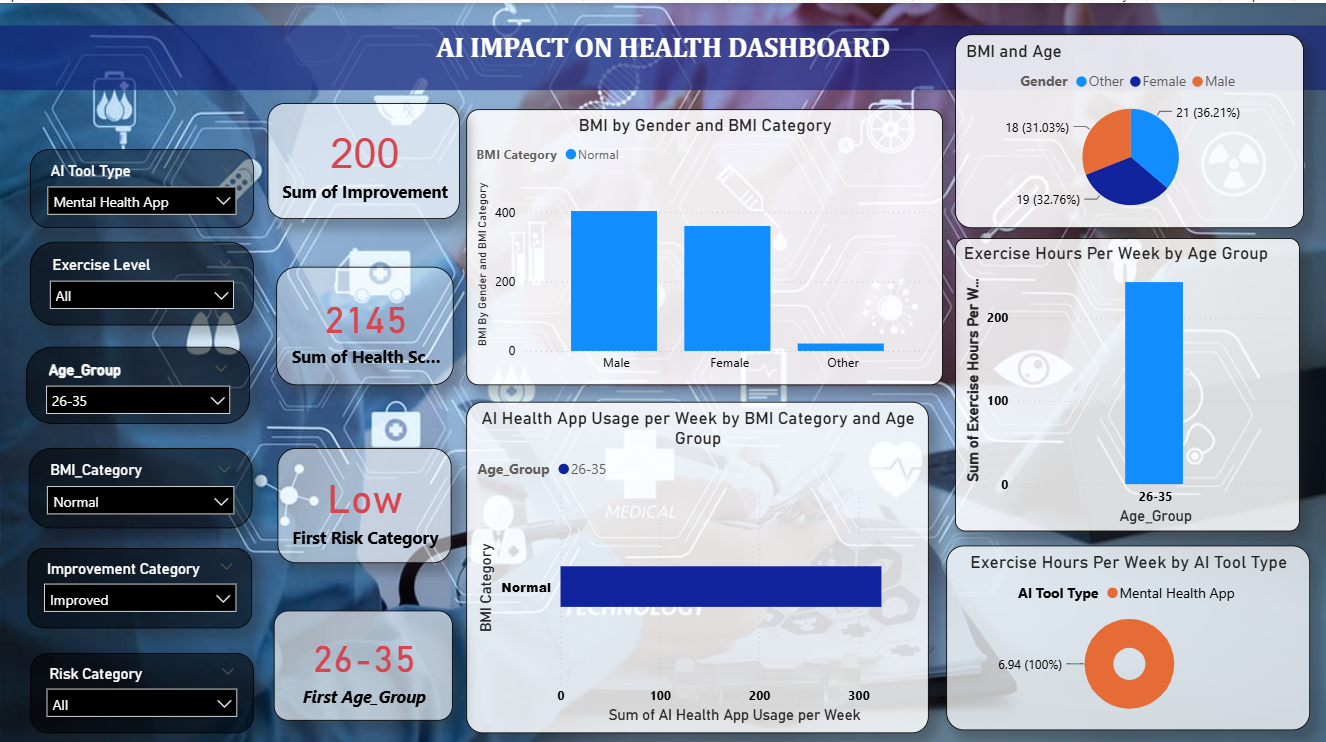

The page's visual inventory and layout, read from the dashboard file:
{"tool":"powerbi","page":{"name":"Page 1","canvas":[1280,720],"ordinal":0},"visuals":[{"type":"textbox","box":[0,21.7,1280,62.7],"z":0},{"type":"pieChart","title":"BMI and Age","fields":{"Y":["Min(Sheet1.BMI)"],"Category":["Sheet1.Gender"]},"box":[921.7,30.2,336.6,187],"z":1000},{"type":"columnChart","title":"Exercise Hours Per Week by Age Group","fields":{"Category":["Sheet1.Age_Group"],"Y":["Sum(Sheet1.Exercise Hours Per Week)"]},"box":[921.7,226.8,333,283.5],"z":2000},{"type":"lineStackedColumnComboChart","title":"BMI by Gender and BMI Category","fields":{"Category":["Sheet1.Gender"],"Y":["Sum(Sheet1.BMI)"],"Series":["Sheet1.BMI_Category"]},"box":[450,102.5,459.7,266.6],"z":4000},{"type":"clusteredBarChart","title":"AI Health App Usage per Week by BMI Category and Age Group","fields":{"Category":["Sheet1.BMI_Category"],"Y":["Sum(Sheet1.AI Health App Usage per Week)"],"Series":["Sheet1.Age_Group"]},"box":[450,384.9,446.4,319.7],"z":5000},{"type":"card","fields":{"Values":["Sum(Sheet1.Improvement)"]},"box":[258.2,96.5,185.8,112.2],"z":6000},{"type":"card","fields":{"Values":["Min(Sheet1.Age_Group)"]},"box":[264.2,586.3,172.5,106.2],"z":7000},{"type":"card","fields":{"Values":["Min(Sheet1.Risk Category)"]},"box":[267.8,429.5,167.7,111],"z":8000},{"type":"card","fields":{"Values":["Sum(Sheet1.Health Score Before AI)"]},"box":[266.6,254.6,171.3,114.6],"z":9000},{"type":"slicer","fields":{"Values":["Sheet1.Age_Group"]},"box":[25.3,331.8,216,74.8],"z":10000},{"type":"slicer","fields":{"Values":["Sheet1.BMI_Category"]},"box":[27.7,429.5,216,77.2],"z":11000},{"type":"slicer","fields":{"Values":["Sheet1.Exercise Level"]},"box":[29,230.4,216,80.8],"z":12000},{"type":"slicer","fields":{"Values":["Sheet1.Risk Category"]},"box":[29,627.3,216,77.2],"z":13000},{"type":"slicer","fields":{"Values":["Sheet1.Improvement Category"]},"box":[26.5,526,217.2,77.2],"z":14000},{"type":"slicer","fields":{"Values":["Sheet1.AI Tool Type"]},"box":[29,141.2,216,76],"z":15000},{"type":"donutChart","title":"Exercise Hours Per Week by AI Tool Type","fields":{"Category":["Sheet1.AI Tool Type"],"Y":["Avg(Sheet1.Exercise Hours Per Week)"]},"box":[913.3,523.6,351.1,178.6],"z":15001}]}

Visuals, with their boxes in screenshot pixels (x1, y1, x2, y2), scaled from the page's 1280x720 canvas onto the 1326x742 screenshot:
textbox: region(0, 22, 1325, 87)
"BMI and Age" pieChart: region(955, 31, 1304, 224)
"Exercise Hours Per Week by Age Group" columnChart: region(955, 234, 1300, 526)
"BMI by Gender and BMI Category" lineStackedColumnComboChart: region(466, 106, 942, 380)
"AI Health App Usage per Week by BMI Category and Age Group" clusteredBarChart: region(466, 397, 929, 726)
card - Sum(Sheet1.Improvement): region(267, 99, 460, 215)
card - Min(Sheet1.Age_Group): region(274, 604, 452, 714)
card - Min(Sheet1.Risk Category): region(277, 443, 451, 557)
card - Sum(Sheet1.Health Score Before AI): region(276, 262, 454, 380)
slicer - Sheet1.Age_Group: region(26, 342, 250, 419)
slicer - Sheet1.BMI_Category: region(29, 443, 252, 522)
slicer - Sheet1.Exercise Level: region(30, 237, 254, 321)
slicer - Sheet1.Risk Category: region(30, 646, 254, 726)
slicer - Sheet1.Improvement Category: region(27, 542, 252, 622)
slicer - Sheet1.AI Tool Type: region(30, 146, 254, 224)
"Exercise Hours Per Week by AI Tool Type" donutChart: region(946, 540, 1310, 724)
